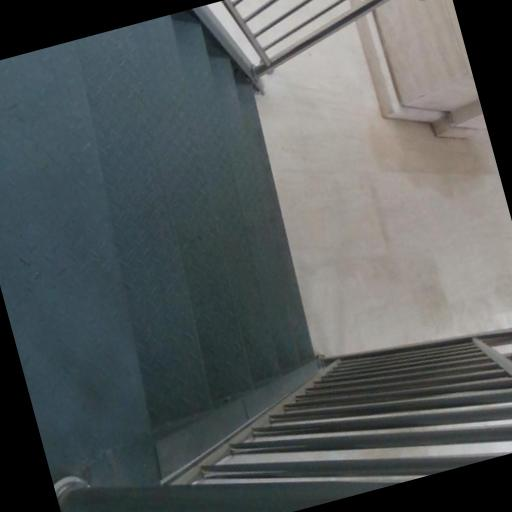stairs: (0, 11, 312, 484), (73, 12, 312, 424)
